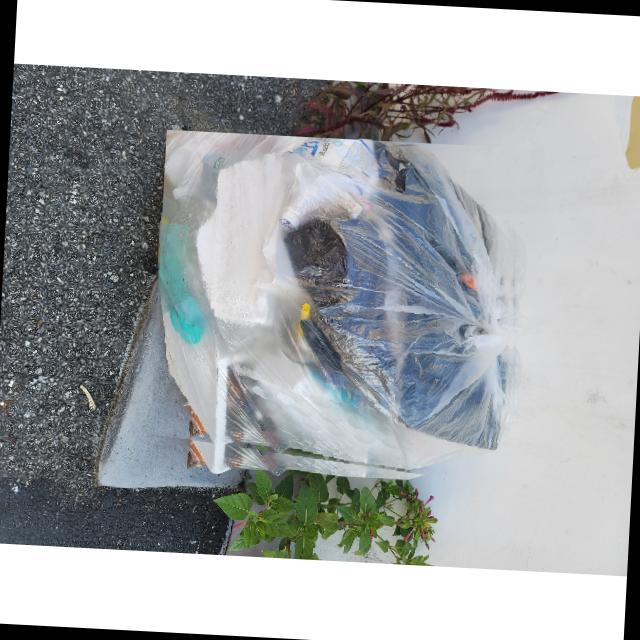other_trashbag: (158, 130, 514, 470)
